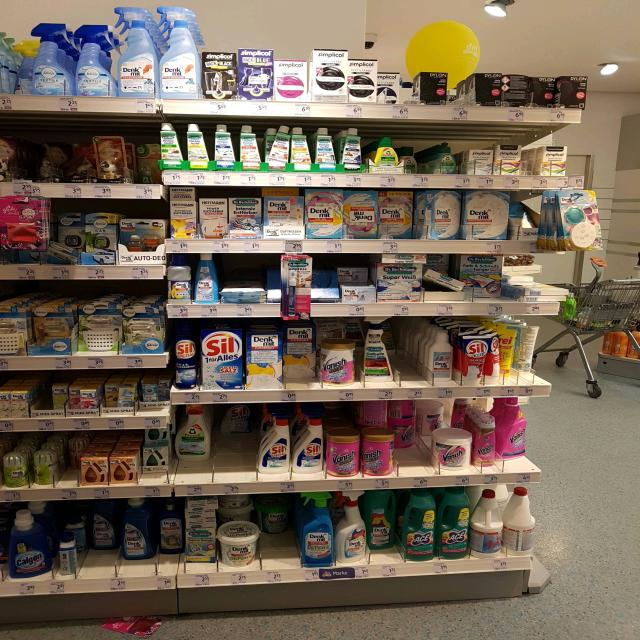void: (400, 318, 424, 397), (31, 372, 52, 431)
